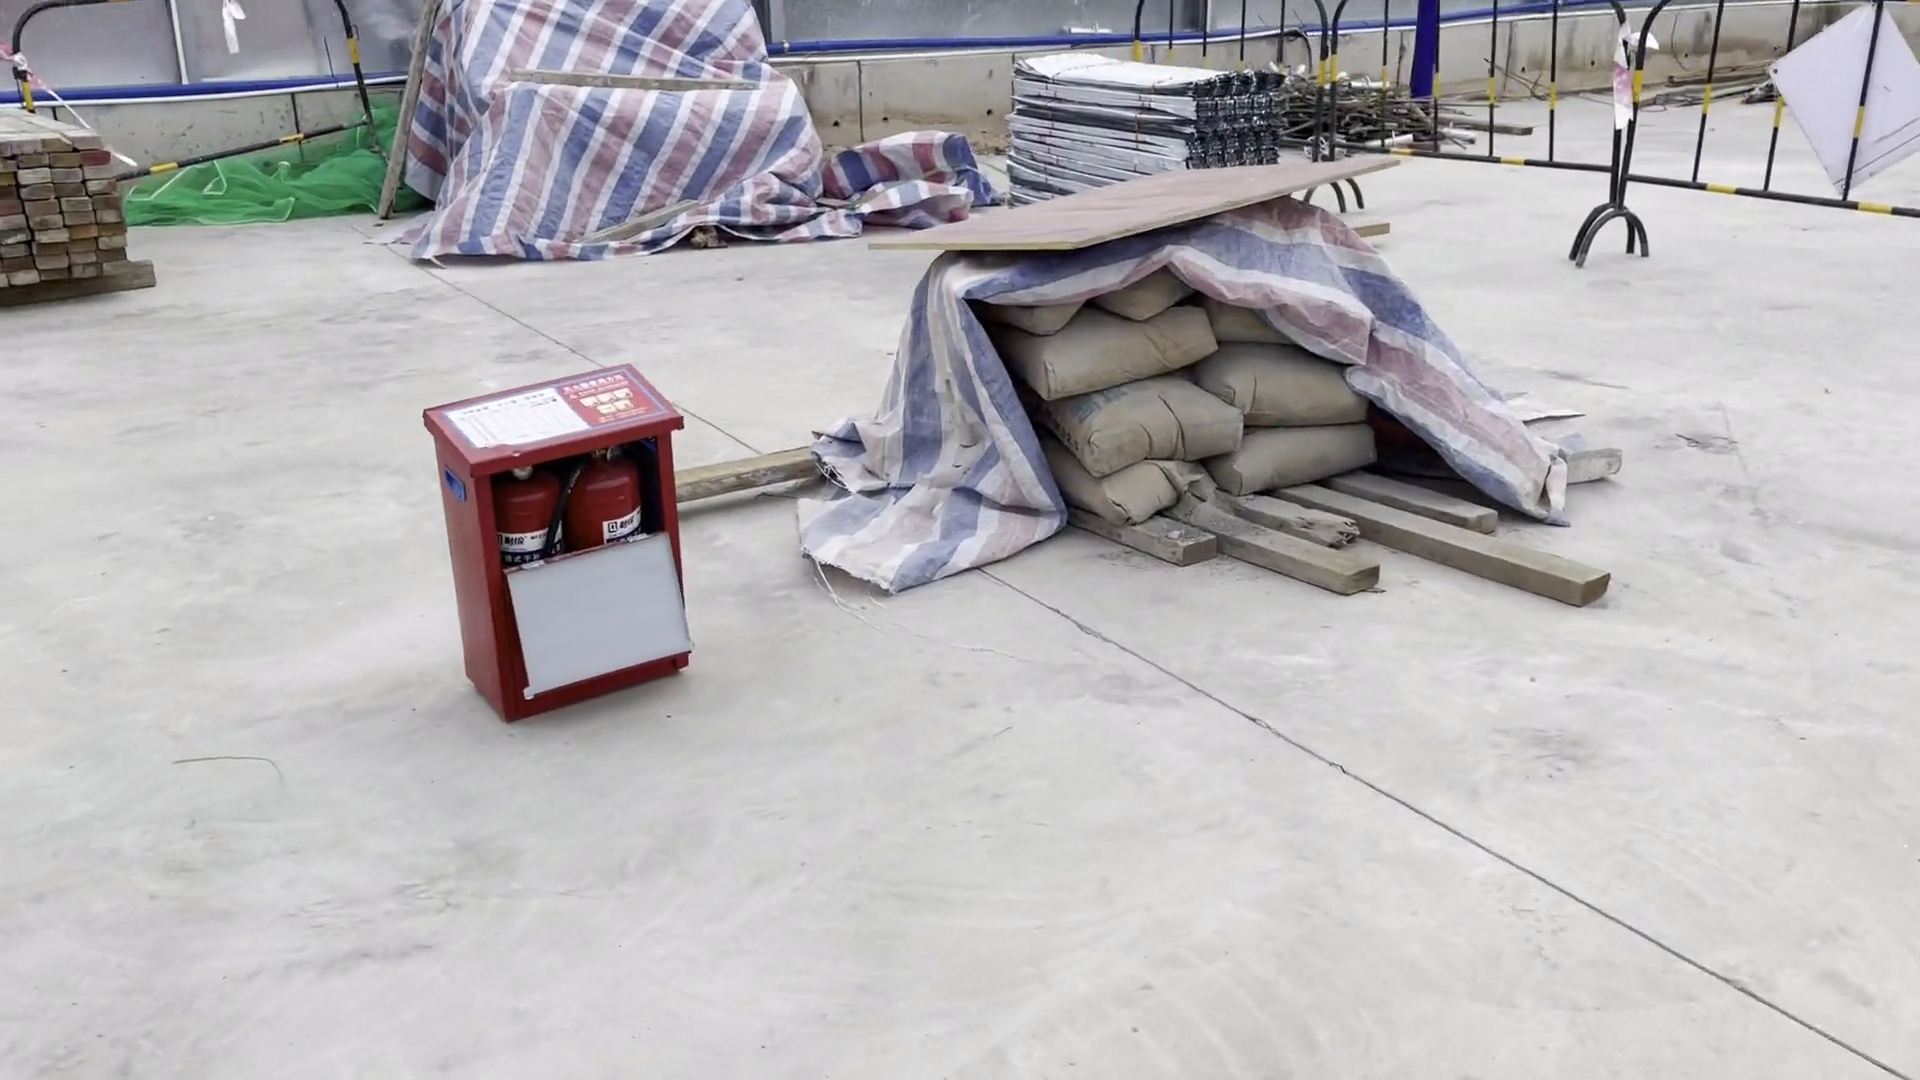board: (864, 157, 1419, 258)
fence: (1137, 5, 1920, 274)
slogan: (444, 365, 663, 459)
wood: (1, 96, 161, 318)
